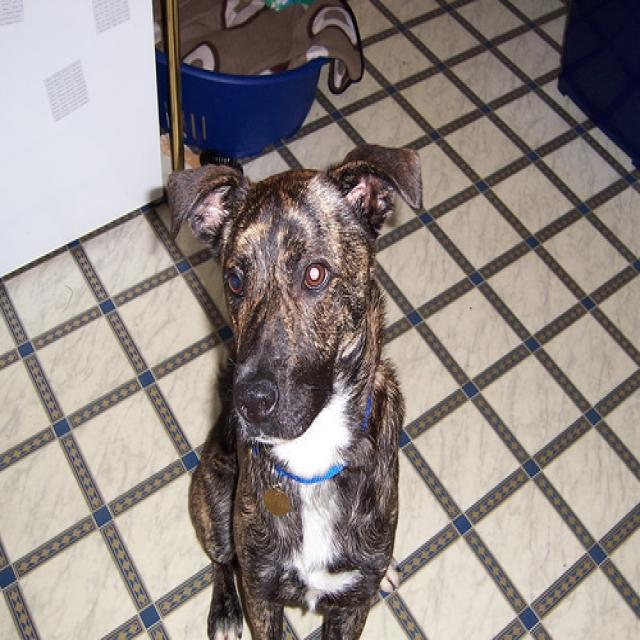dog-staffordshire_bull_terrier: (152, 128, 433, 637)
